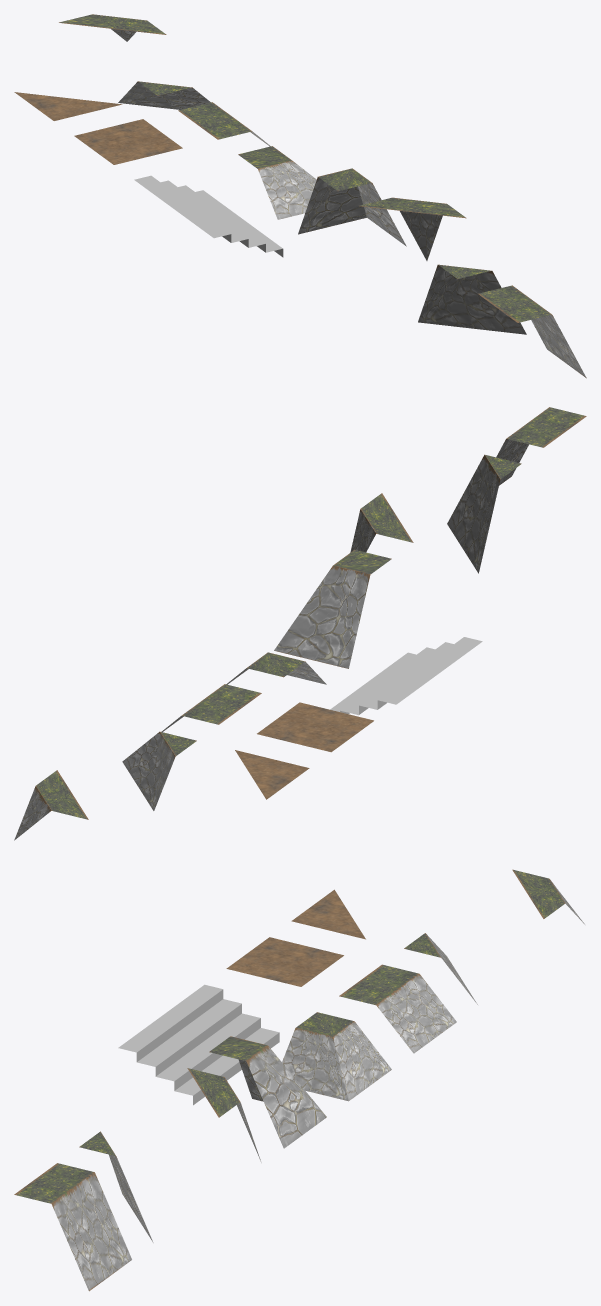
The model's file is Tile_Set_Low_Polly.fbx.
The picture shows the model from 3 angles, top to bottom: view 1: azimuth 30°, elevation 25°; view 2: azimuth 150°, elevation 25°; view 3: azimuth 330°, elevation 25°; orthographic projection. The views are drawn at different scales.
Parts seen in each view (by area): view 1: Tile_Slope_Corner_In, Tile_Slope_Corner_Out, Tile_Stairs, Tile_Half_Slope_Corner_Out, Tile_Floor, Tile_Slope, Tile_Slope_Mid, Tile_Half_Slope_Corner_In, Tile_Half_Slope, Tile_Floor_Half, Tile_Half_Slope_Mid; view 2: Tile_Slope_Corner_Out, Tile_Stairs, Tile_Slope_Corner_In, Tile_Floor, Tile_Half_Slope_Corner_In, Tile_Slope, Tile_Half_Slope_Mid, Tile_Slope_Mid, Tile_Half_Slope, Tile_Floor_Half, Tile_Half_Slope_Corner_Out; view 3: Tile_Stairs, Tile_Slope, Tile_Half_Slope_Corner_Out, Tile_Slope_Corner_Out, Tile_Half_Slope, Tile_Floor, Tile_Floor_Half, Tile_Slope_Mid, Tile_Half_Slope_Mid, Tile_Slope_Corner_In, Tile_Half_Slope_Corner_In.
Boxes of the visible parts, x1,y1,x2,y2 form: Tile_Slope_Corner_In: (418, 264, 526, 334); Tile_Slope_Corner_Out: (298, 168, 406, 246); Tile_Stairs: (134, 175, 283, 257); Tile_Half_Slope_Corner_Out: (238, 146, 316, 219); Tile_Floor: (74, 119, 182, 164); Tile_Slope: (478, 285, 586, 378); Tile_Slope_Mid: (359, 197, 466, 260); Tile_Half_Slope_Corner_In: (118, 81, 210, 109); Tile_Half_Slope: (178, 102, 270, 146); Tile_Floor_Half: (14, 92, 122, 120); Tile_Half_Slope_Mid: (59, 14, 166, 41); Tile_Slope_Corner_Out: (274, 549, 391, 668); Tile_Stairs: (330, 637, 482, 715); Tile_Slope_Corner_In: (447, 454, 521, 573); Tile_Floor: (257, 702, 373, 752); Tile_Half_Slope_Corner_In: (122, 731, 196, 810); Tile_Slope: (496, 407, 586, 485); Tile_Half_Slope_Mid: (14, 770, 88, 840); Tile_Slope_Mid: (350, 493, 413, 552); Tile_Half_Slope: (161, 684, 261, 732); Tile_Floor_Half: (235, 750, 309, 799); Tile_Half_Slope_Corner_Out: (226, 652, 326, 684); Tile_Stairs: (118, 984, 279, 1105); Tile_Slope: (14, 1163, 131, 1291); Tile_Half_Slope_Corner_Out: (282, 1012, 391, 1101); Tile_Slope_Corner_Out: (209, 1036, 326, 1148); Tile_Half_Slope: (339, 964, 456, 1053); Tile_Floor: (226, 937, 343, 986); Tile_Floor_Half: (291, 889, 365, 939); Tile_Slope_Mid: (187, 1068, 261, 1162); Tile_Half_Slope_Mid: (512, 869, 584, 924); Tile_Slope_Corner_In: (79, 1131, 153, 1242); Tile_Half_Slope_Corner_In: (404, 933, 477, 1004).
Size of the model in its own units: 500 by 200 by 2300.
